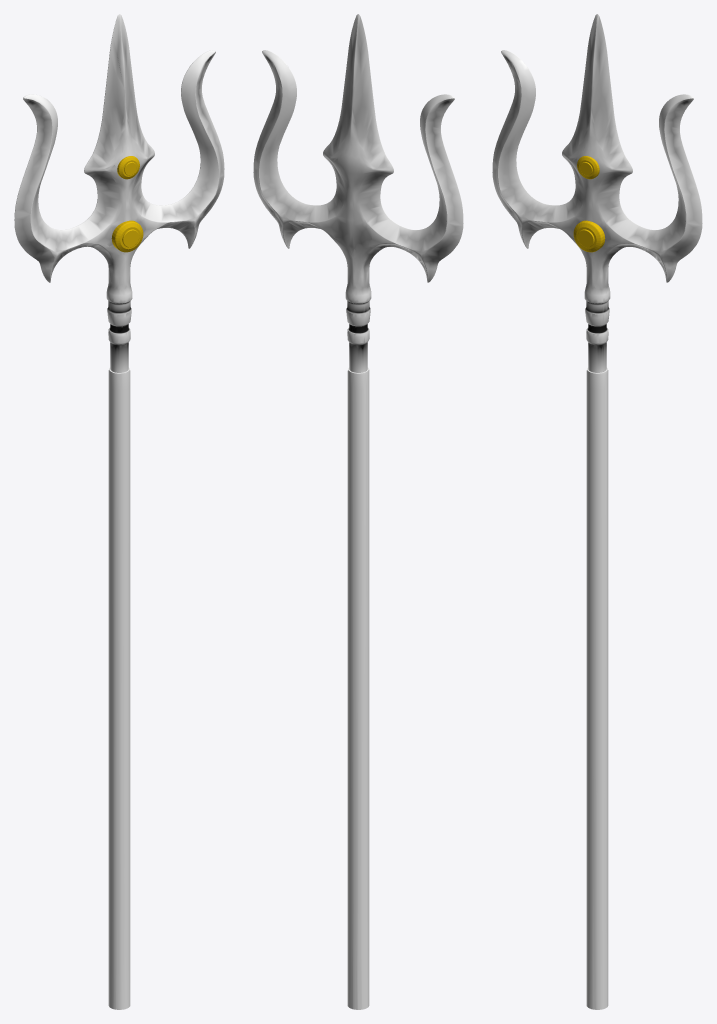
File: Tool.fbx
3 views of the same model, side by side, from view 1: azimuth 30°, elevation 25°; view 2: azimuth 150°, elevation 25°; view 3: azimuth 330°, elevation 25° (orthographic).
Parts seen in each view (by area): view 1: Trident - Shiv Trishul; view 2: Trident - Shiv Trishul; view 3: Trident - Shiv Trishul.
Boxes of the visible parts, x1=… form: Trident - Shiv Trishul: x1=14, y1=14, x2=224, y2=1009; Trident - Shiv Trishul: x1=253, y1=14, x2=463, y2=1009; Trident - Shiv Trishul: x1=492, y1=14, x2=702, y2=1009.
Size of the model in its own units: 34.09 by 6.04 by 154.
